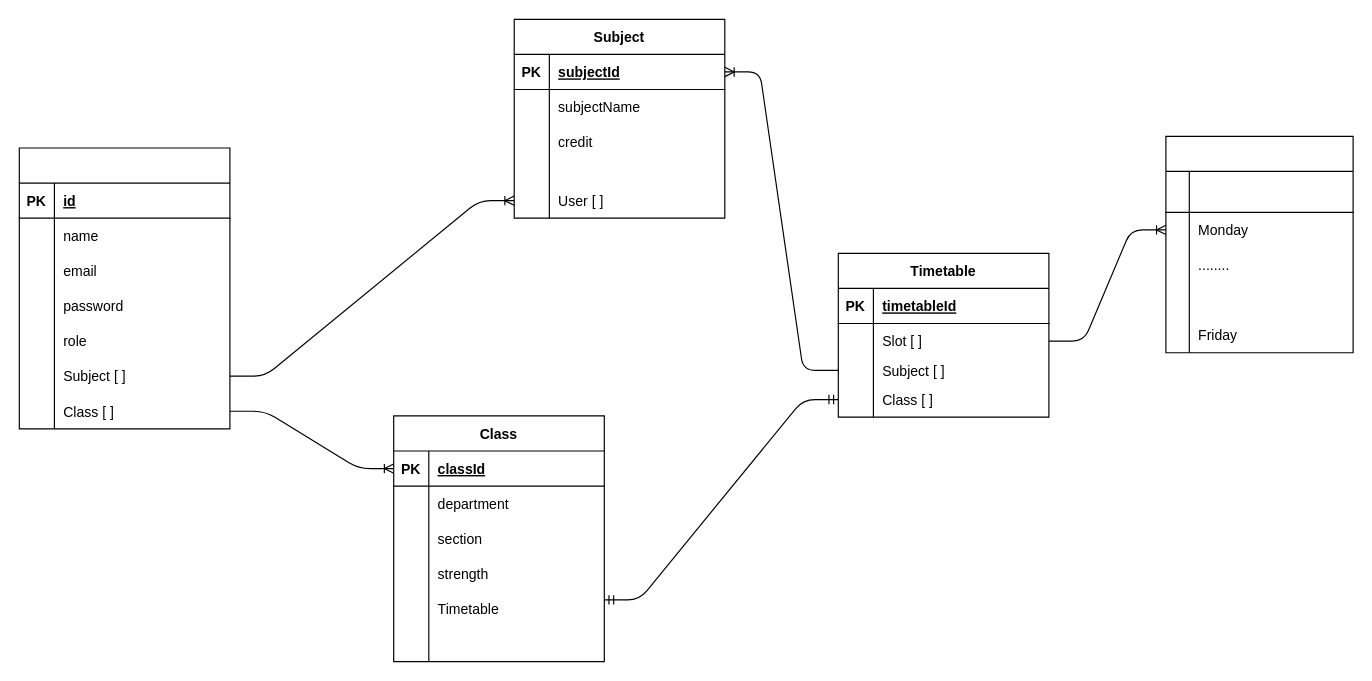
The diagram is 1372 pixels wide and 681 high, and some of its shapes have lost their labels. The shapes that lost their labels are listed below. From the top down, each one's box as (x1, y1, x2, y2) in pixels, then its label:
(1165, 135, 1353, 353): Slot
(18, 147, 230, 429): User
